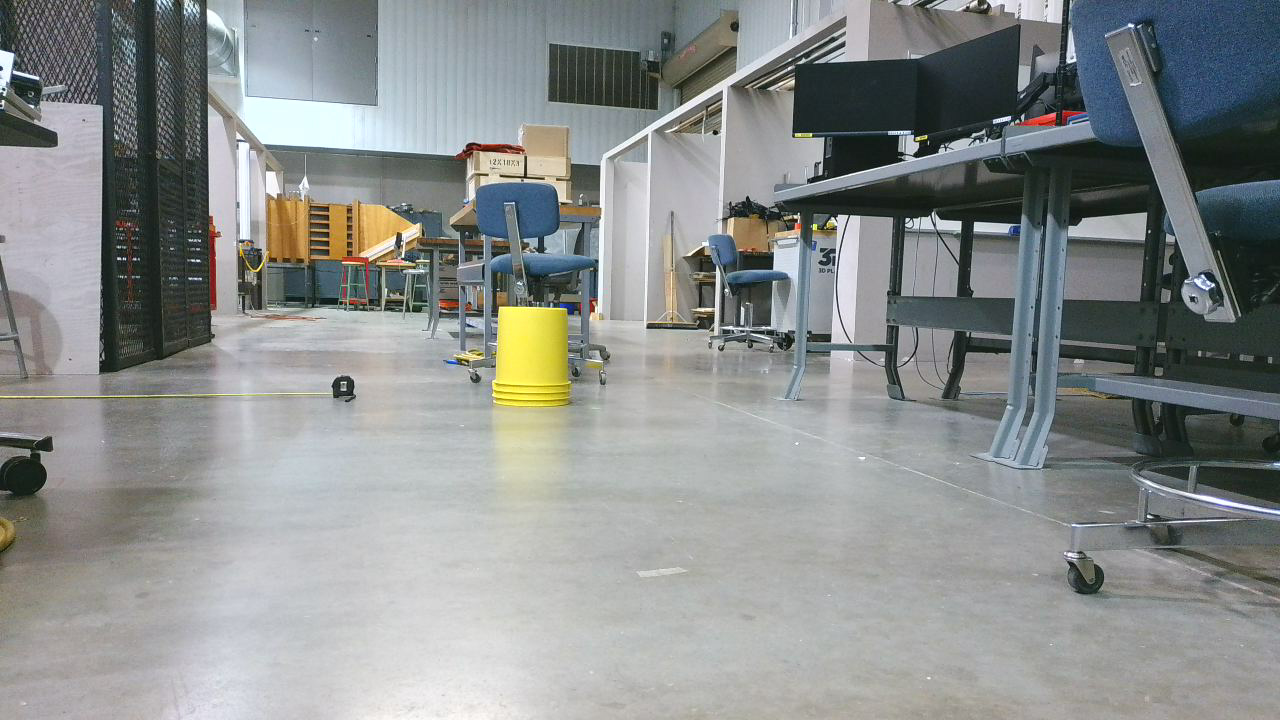yellow_bucket: (493, 310, 582, 415)
